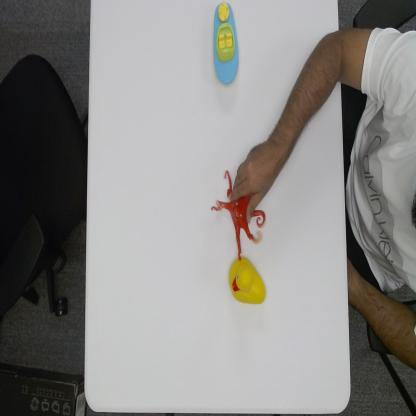Arm: (285, 25, 345, 170)
Boat: (212, 0, 240, 87)
Duck: (227, 256, 267, 306)
Hand: (228, 142, 284, 224)
Octopus: (210, 168, 266, 259)
